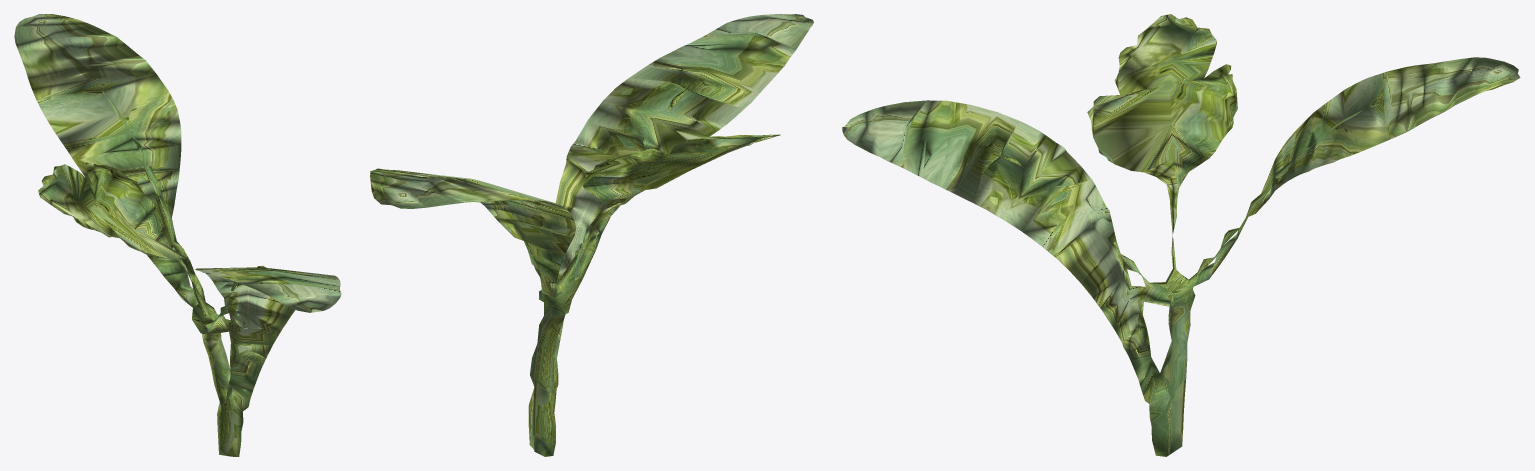
Rendered from lingcao_huichun_sprout.obj.
3 renders of one model, left to right at view 1: azimuth 30°, elevation 25°; view 2: azimuth 150°, elevation 25°; view 3: azimuth 270°, elevation 25°, orthographic. The views are drawn at different scales.
Parts seen in each view (by area): view 1: lingcao_huichun_sprout; view 2: lingcao_huichun_sprout; view 3: lingcao_huichun_sprout.
Boxes of the visible parts, <box> form: lingcao_huichun_sprout: <box>14,14,341,456</box>; lingcao_huichun_sprout: <box>370,14,813,456</box>; lingcao_huichun_sprout: <box>842,14,1520,456</box>.
Size of the model in its own units: 0.0586 by 0.0826 by 0.1398.
Materials: 1 (1 with a texture image).
